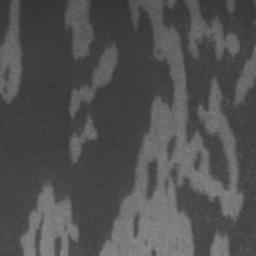Red iron sheet: (0, 0, 175, 256), (163, 0, 256, 256), (0, 0, 12, 47), (147, 157, 159, 201), (33, 215, 45, 256), (166, 136, 177, 161), (133, 212, 141, 239), (3, 68, 10, 93), (193, 152, 201, 172), (151, 248, 157, 256)
